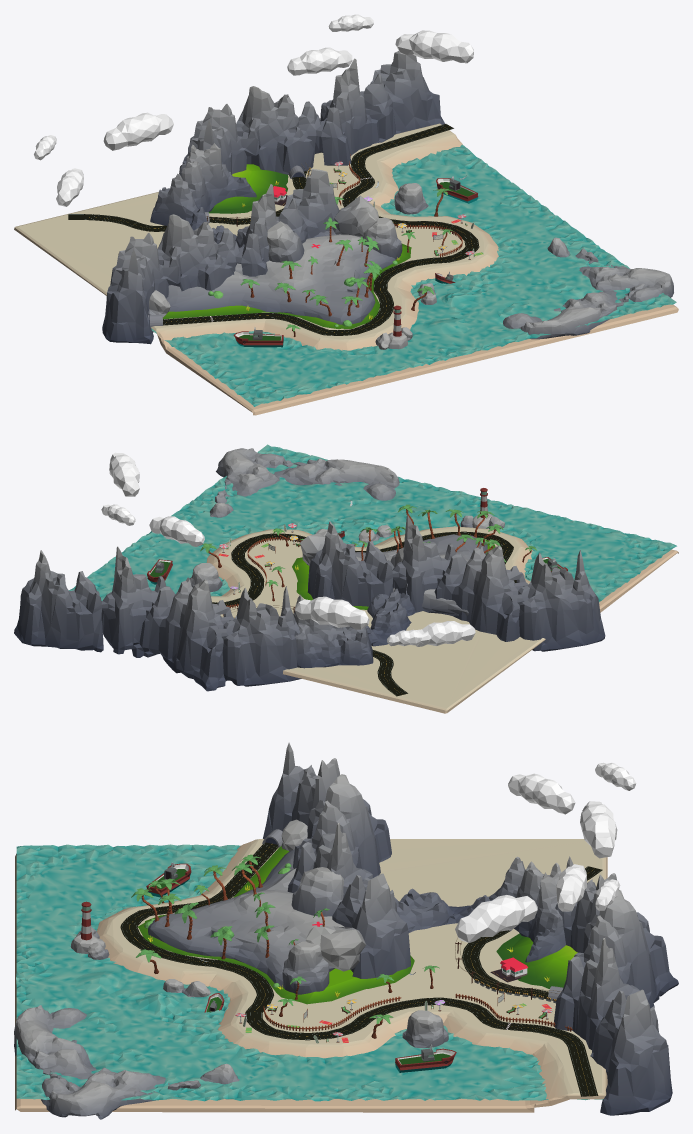
Rendered from RaceGameBeach2Sketchfab.fbx.
3 renders of one model, top to bottom at view 1: azimuth 30°, elevation 25°; view 2: azimuth 150°, elevation 25°; view 3: azimuth 270°, elevation 25°, orthographic. The views are drawn at different scales.
Parts seen in each view (by area): view 1: Plane.069, Plane.061, Plane.080, Plane.074, Plane.070, Cliff4.004, Plane.048, Plane.082, Mball.009, Mball.012, Plane.085, Plane.084 (+10 smaller); view 2: Plane.069, Plane.080, Plane.074, Plane.061, Cliff4.004, Plane.082, Plane.048, Mball.012, Plane.070, Mball.007, Mball.009, Mball.010 (+7 smaller); view 3: Plane.069, Plane.061, Plane.080, Plane.074, Plane.070, Cliff4.004, Plane.048, Plane.082, Plane.085, Mball.009, Plane.084, Cliff2.024 (+13 smaller).
Part boxes in pixels (left/top/right/bottom): Plane.069: left=151, top=144, right=676, bottom=406; Plane.061: left=14, top=123, right=678, bottom=415; Plane.080: left=182, top=51, right=444, bottom=174; Plane.074: left=102, top=169, right=339, bottom=344; Plane.070: left=166, top=234, right=395, bottom=324; Cliff4.004: left=503, top=237, right=673, bottom=339; Plane.048: left=163, top=124, right=479, bottom=335; Plane.082: left=150, top=143, right=256, bottom=244; Mball.009: left=395, top=30, right=473, bottom=63; Mball.012: left=103, top=112, right=173, bottom=150; Plane.085: left=163, top=243, right=411, bottom=329; Plane.084: left=208, top=164, right=288, bottom=213; Plane.069: left=69, top=444, right=676, bottom=602; Plane.080: left=14, top=546, right=301, bottom=691; Plane.074: left=307, top=515, right=605, bottom=651; Plane.061: left=206, top=526, right=678, bottom=713; Cliff4.004: left=210, top=448, right=399, bottom=517; Plane.082: left=293, top=583, right=415, bottom=668; Plane.048: left=212, top=531, right=516, bottom=606; Mball.012: left=295, top=596, right=369, bottom=629; Plane.070: left=355, top=534, right=487, bottom=615; Mball.007: left=149, top=516, right=204, bottom=546; Mball.009: left=109, top=452, right=139, bottom=496; Mball.010: left=416, top=621, right=475, bottom=646; Plane.069: left=16, top=844, right=603, bottom=1101; Plane.061: left=15, top=839, right=607, bottom=1112; Plane.080: left=553, top=856, right=678, bottom=1115; Plane.074: left=263, top=742, right=410, bottom=978; Plane.070: left=148, top=849, right=344, bottom=987; Cliff4.004: left=14, top=1005, right=239, bottom=1119; Plane.048: left=120, top=842, right=598, bottom=1096; Plane.082: left=394, top=856, right=565, bottom=962; Plane.085: left=138, top=846, right=414, bottom=1004; Mball.009: left=455, top=895, right=537, bottom=942; Plane.084: left=496, top=933, right=577, bottom=988; Cliff2.024: left=291, top=867, right=343, bottom=916.
Size of the model in its own units: 27359 by 9110 by 26615.
